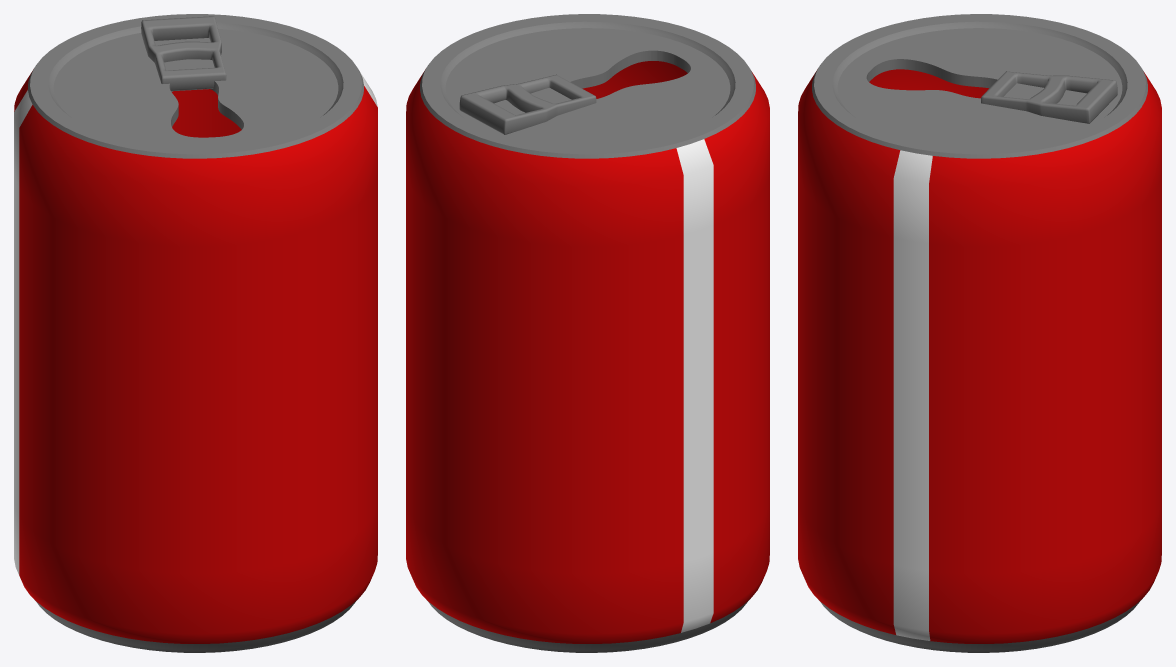
The model's file is Soda.obj.
The picture shows the model from 3 angles, left to right: view 1: azimuth 30°, elevation 25°; view 2: azimuth 150°, elevation 25°; view 3: azimuth 270°, elevation 25°; orthographic projection.
Visible parts, largest first — view 1: pCylinder19, polySurface2, pCube86; view 2: pCylinder19, polySurface2, pCube86; view 3: pCylinder19, polySurface2, pCube86.
Part boxes in pixels (bbox=[...]): pCylinder19: bbox=[14, 14, 377, 652]; polySurface2: bbox=[53, 29, 338, 146]; pCube86: bbox=[141, 16, 226, 91]; pCylinder19: bbox=[406, 14, 769, 652]; polySurface2: bbox=[445, 28, 730, 146]; pCube86: bbox=[459, 74, 596, 134]; pCylinder19: bbox=[798, 14, 1161, 652]; polySurface2: bbox=[837, 28, 1122, 146]; pCube86: bbox=[981, 71, 1117, 123].
Size of the model in its own units: 7.29 by 11.27 by 7.29.
